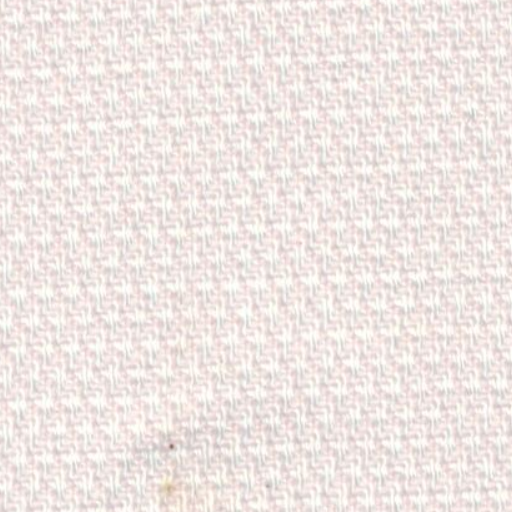WuZi: (120, 414, 222, 506)
